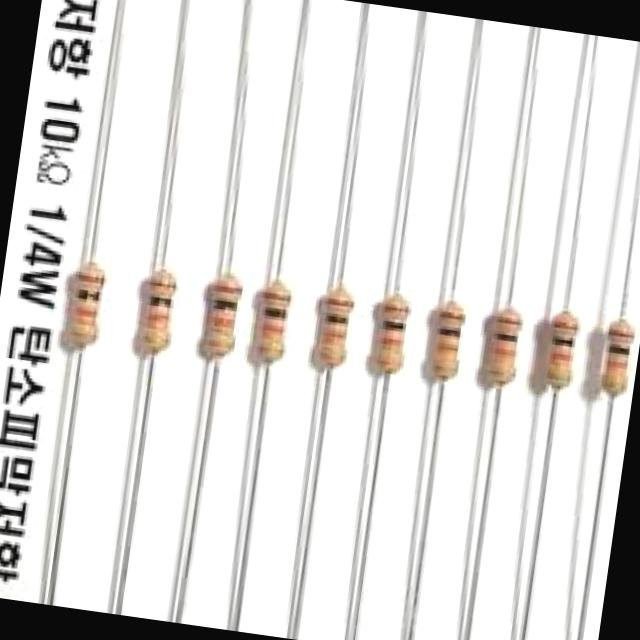Resistor: (582, 317, 636, 424), (527, 310, 581, 402), (197, 268, 243, 370), (309, 281, 355, 375), (132, 269, 178, 360), (61, 261, 106, 353), (248, 277, 293, 369), (365, 290, 411, 379), (422, 301, 467, 386), (480, 308, 523, 393)
black: (321, 314, 348, 324), (265, 307, 285, 320)
brown: (320, 297, 353, 308)
gold: (252, 342, 285, 352)
red: (320, 331, 344, 338)
